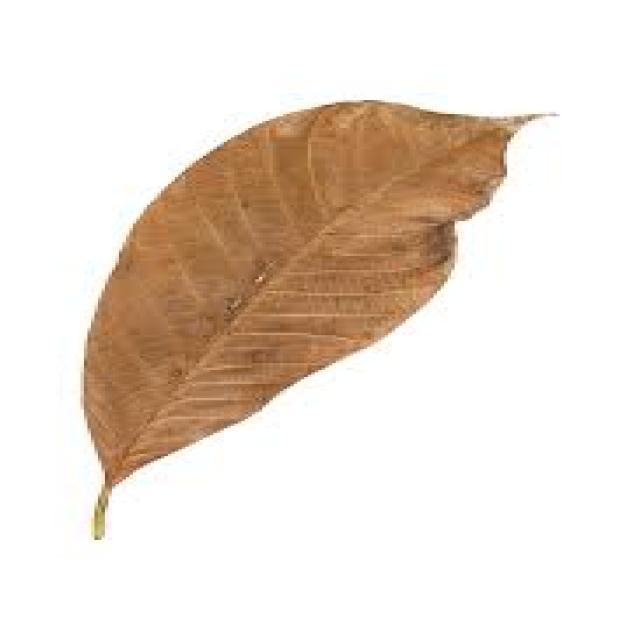leaf: (80, 98, 558, 540)
